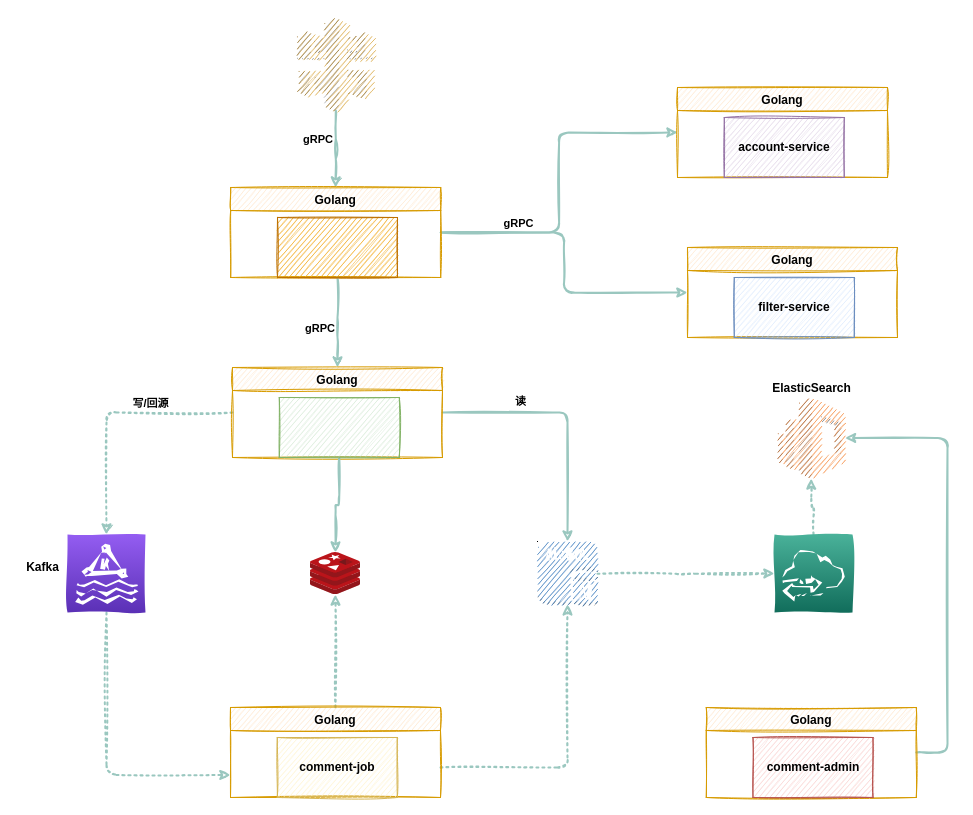
Image size: 973x815. Some labels were removed from this diagram. Here are the shapes that lost their labels. From the top down, the box of each, then its label:
(276, 216, 398, 278): comment
(278, 396, 399, 458): comment-service
(310, 552, 360, 594): Redis
(774, 534, 852, 612): Canal
